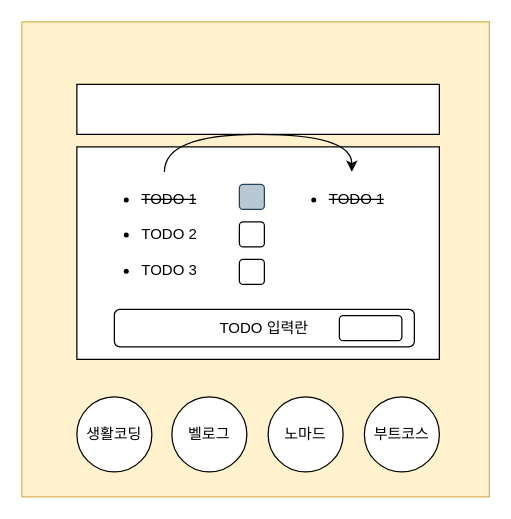
The diagram is 511 pixels wide and 519 high, and some of its shapes have lost their labels. The shapes that lost their labels are listed below. From the top down, each one's box as (x1, y1, x2, y2) in pixels, then its label:
(76, 83, 439, 134): #TODO
(338, 314, 402, 341): 입력
